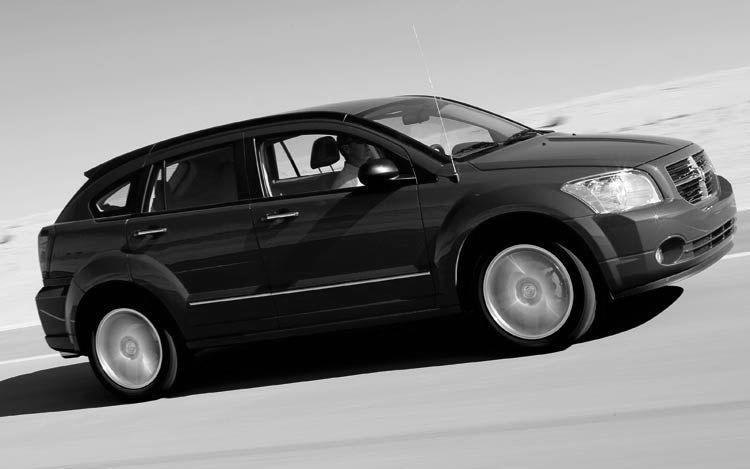car: (36, 27, 740, 403)
